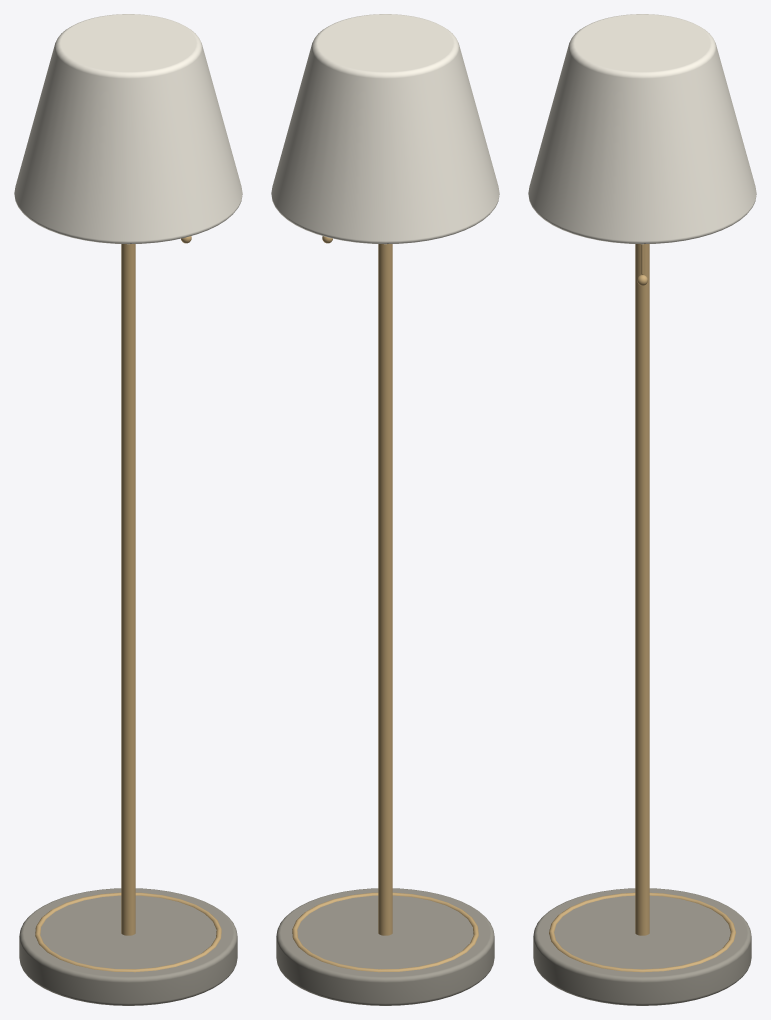
File: floor_lamp.glb
3 views of the same model, side by side, from view 1: azimuth 30°, elevation 25°; view 2: azimuth 150°, elevation 25°; view 3: azimuth 270°, elevation 25° (orthographic).
Visible parts, largest first — view 1: Linen shade, Weighted base, Lamp stem, Base trim; view 2: Linen shade, Weighted base, Lamp stem, Base trim; view 3: Linen shade, Weighted base, Lamp stem, Base trim.
Part boxes in pixels (x1,y1,x2,y2): Linen shade: [14, 14, 242, 244]; Weighted base: [19, 888, 237, 1005]; Lamp stem: [121, 244, 135, 935]; Base trim: [35, 892, 221, 972]; Linen shade: [271, 14, 499, 244]; Weighted base: [276, 888, 494, 1005]; Lamp stem: [378, 244, 392, 935]; Base trim: [292, 892, 478, 972]; Linen shade: [528, 14, 756, 244]; Weighted base: [533, 888, 751, 1005]; Lamp stem: [635, 244, 649, 935]; Base trim: [549, 892, 735, 972].
Size of the model in its own units: 0.3761 by 1.67 by 0.3761.
